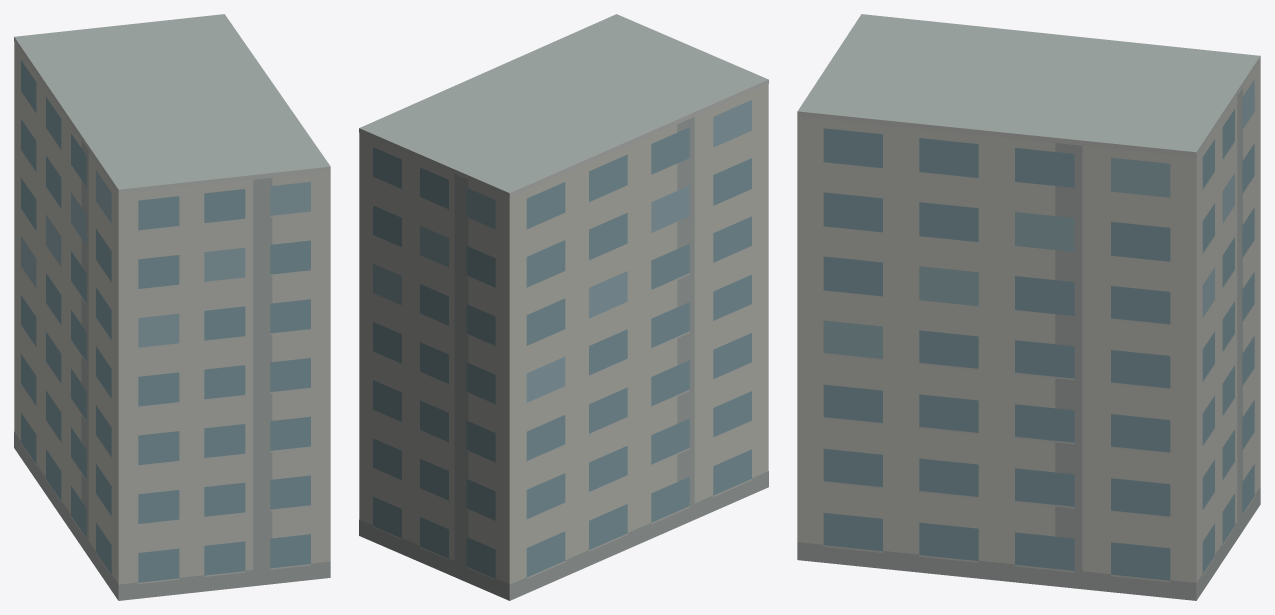
The model's file is survey-upis-32873690.glb.
3 views of the same model, side by side, from view 1: azimuth 30°, elevation 25°; view 2: azimuth 150°, elevation 25°; view 3: azimuth 270°, elevation 25° (orthographic). The views are drawn at different scales.
Parts seen in each view (by area): view 1: survey-upis-32873690.tmp; view 2: survey-upis-32873690.tmp; view 3: survey-upis-32873690.tmp.
Part boxes in pixels (x1=…): survey-upis-32873690.tmp: x1=14, y1=14, x2=330, y2=600; survey-upis-32873690.tmp: x1=359, y1=14, x2=768, y2=600; survey-upis-32873690.tmp: x1=797, y1=14, x2=1260, y2=600.
Size of the model in its own units: 14.08 by 21.3 by 19.93.
